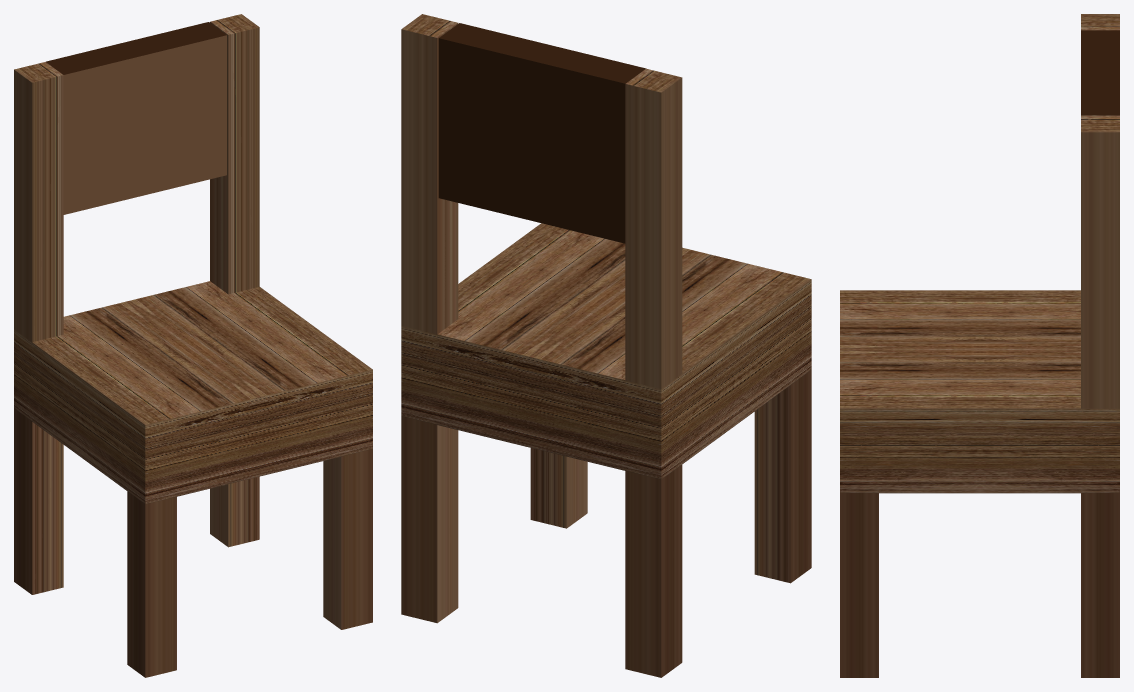
File: Scaun.fbx
3 renders of one model, left to right at view 1: azimuth 30°, elevation 25°; view 2: azimuth 150°, elevation 25°; view 3: azimuth 270°, elevation 25°, orthographic. The views are drawn at different scales.
Visible parts, largest first — view 1: Cube; view 2: Cube; view 3: Cube.
Part boxes in pixels (x1,y1,x2,y2): Cube: [14, 14, 372, 677]; Cube: [401, 14, 811, 677]; Cube: [840, 14, 1119, 677].
Size of the model in its own units: 600 by 1291 by 600.
1 material, 1 textured.
